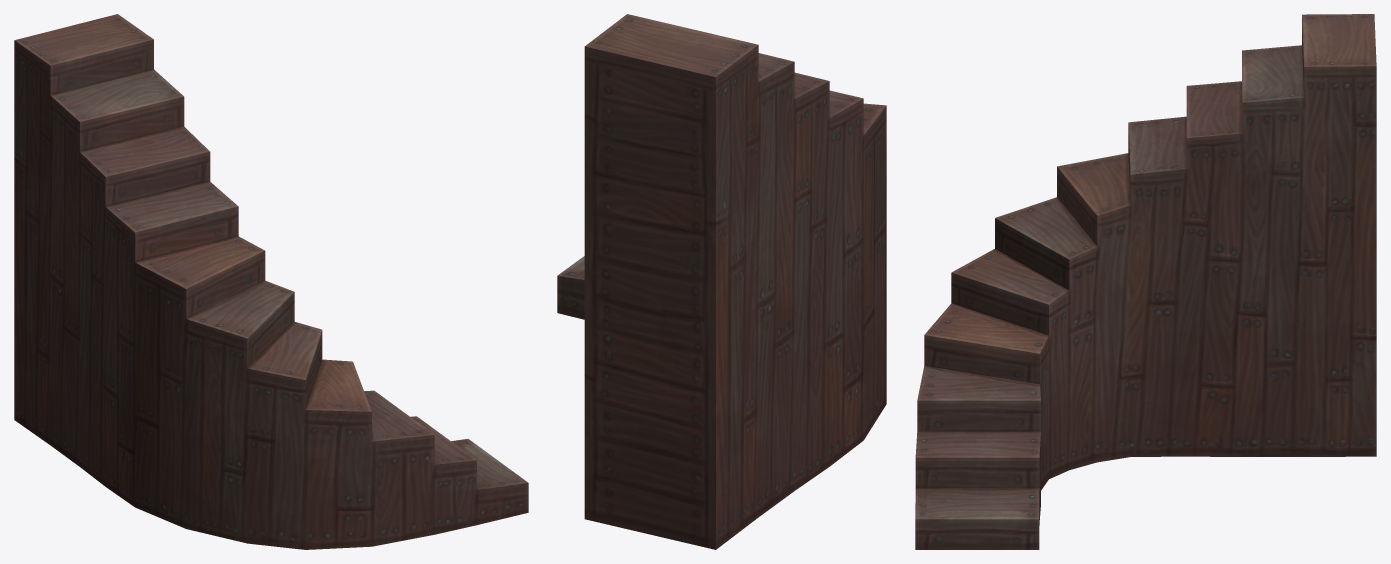
The model's file is ladderFlip.FBX.
3 views of the same model, side by side, from view 1: azimuth 30°, elevation 25°; view 2: azimuth 150°, elevation 25°; view 3: azimuth 270°, elevation 25° (orthographic). The views are drawn at different scales.
Parts seen in each view (by area): view 1: ladderFlip; view 2: ladderFlip; view 3: ladderFlip.
Boxes of the visible parts, x1,y1,x2,y2 form: ladderFlip: (14, 14, 528, 549); ladderFlip: (557, 14, 886, 549); ladderFlip: (915, 14, 1376, 549).
Size of the model in its own units: 146 by 182 by 195.
